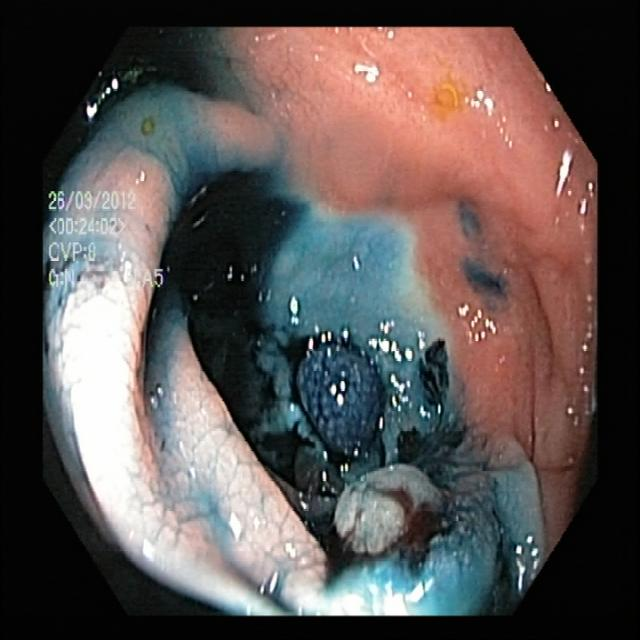dyed-resection-margins: (241, 307, 539, 609)
